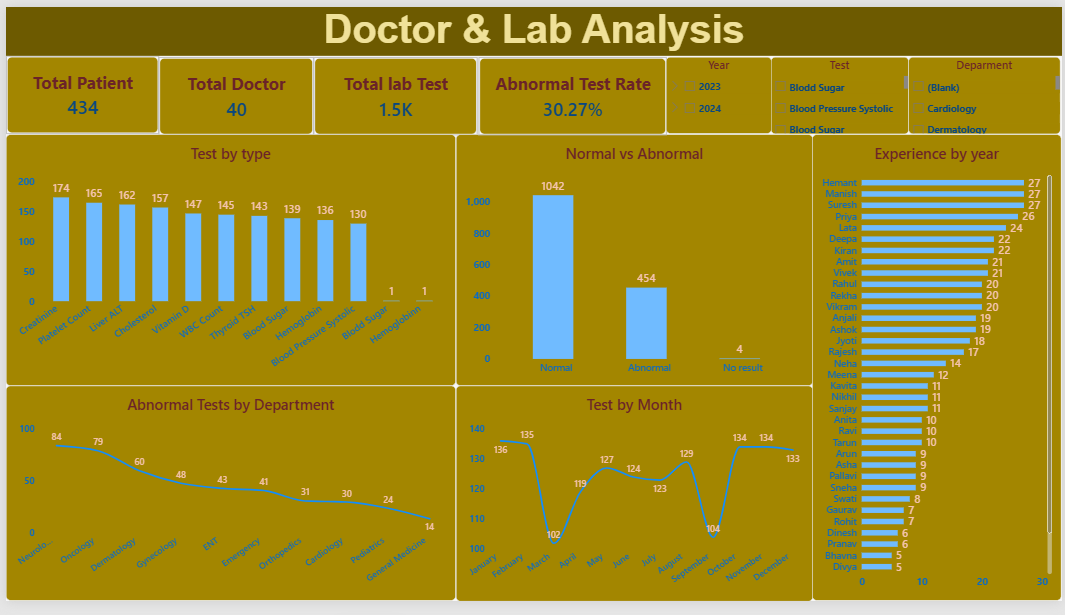

The dashboard page shown, as its layout file describes it:
{"tool":"powerbi","page":{"name":"Page 3","canvas":[1920,1080],"ordinal":2},"visuals":[{"type":"cardVisual","fields":{"Data":["Count(lab_results.patient_id)"]},"box":[0,88,278,142],"z":0},{"type":"textbox","box":[0,0,1920.4,88.5],"z":1000},{"type":"cardVisual","fields":{"Data":["Count(doctors.doctor_id)"]},"box":[278,90,282,142],"z":2000},{"type":"cardVisual","fields":{"Data":["Count(lab_results.lab_id)"]},"box":[560,90,298,142],"z":3000},{"type":"clusteredColumnChart","title":"Normal vs Abnormal","fields":{"Category":["lab_results.result_status"],"Y":["Count(lab_results.lab_id)"]},"box":[817.6,231.4,649,456.9],"z":4000},{"type":"cardVisual","fields":{"Data":["admissions.Abnormal Test Rate"]},"box":[858,90,342,142],"z":5000},{"type":"clusteredColumnChart","title":"Test by type","fields":{"Category":["lab_results.test_name"],"Y":["Count(lab_results.lab_id)"]},"box":[0,231.4,817.6,456.9],"z":6000},{"type":"lineChart","title":"Abnormal Tests by Department","fields":{"Category":["departments.department_name"],"Y":["admissions.Abnormal Tests"]},"box":[0,688.2,817.6,390.2],"z":7000},{"type":"lineChart","title":"Test by Month","fields":{"Category":["lab_results.test_date.Variation.Date Hierarchy.Month"],"Y":["Count(lab_results.lab_id)"]},"box":[817.6,688.2,649,392.2],"z":8000},{"type":"clusteredBarChart","title":"Experience by year","fields":{"Category":["doctors.first_name"],"Y":["Avg(doctors.experience_years)"]},"box":[1466.7,231.4,452.9,847.1],"z":9000},{"type":"slicer","title":"Year","fields":{"Values":["lab_results.test_date.Variation.Date Hierarchy.Year","lab_results.test_date.Variation.Date Hierarchy.Month"]},"box":[1200,92,192.2,139.2],"z":10000},{"type":"slicer","title":"Test","fields":{"Values":["lab_results.test_name"]},"box":[1392,92,250,140],"z":11000},{"type":"slicer","title":"Deparment","fields":{"Values":["departments.department_name"]},"box":[1642,92,276,140],"z":11001}]}

Visuals, with their boxes in screenshot pixels (x1, y1, x2, y2), scaled from the page's 1920x1080 canvas onto the 1065x615 screenshot:
cardVisual - Count(lab_results.patient_id): crop(0, 50, 154, 131)
textbox: crop(0, 0, 1064, 50)
cardVisual - Count(doctors.doctor_id): crop(154, 51, 311, 132)
cardVisual - Count(lab_results.lab_id): crop(311, 51, 476, 132)
"Normal vs Abnormal" clusteredColumnChart: crop(454, 132, 814, 392)
cardVisual - admissions.Abnormal Test Rate: crop(476, 51, 666, 132)
"Test by type" clusteredColumnChart: crop(0, 132, 454, 392)
"Abnormal Tests by Department" lineChart: crop(0, 392, 454, 614)
"Test by Month" lineChart: crop(454, 392, 814, 614)
"Experience by year" clusteredBarChart: crop(814, 132, 1064, 614)
"Year" slicer: crop(666, 52, 772, 132)
"Test" slicer: crop(772, 52, 911, 132)
"Deparment" slicer: crop(911, 52, 1064, 132)
